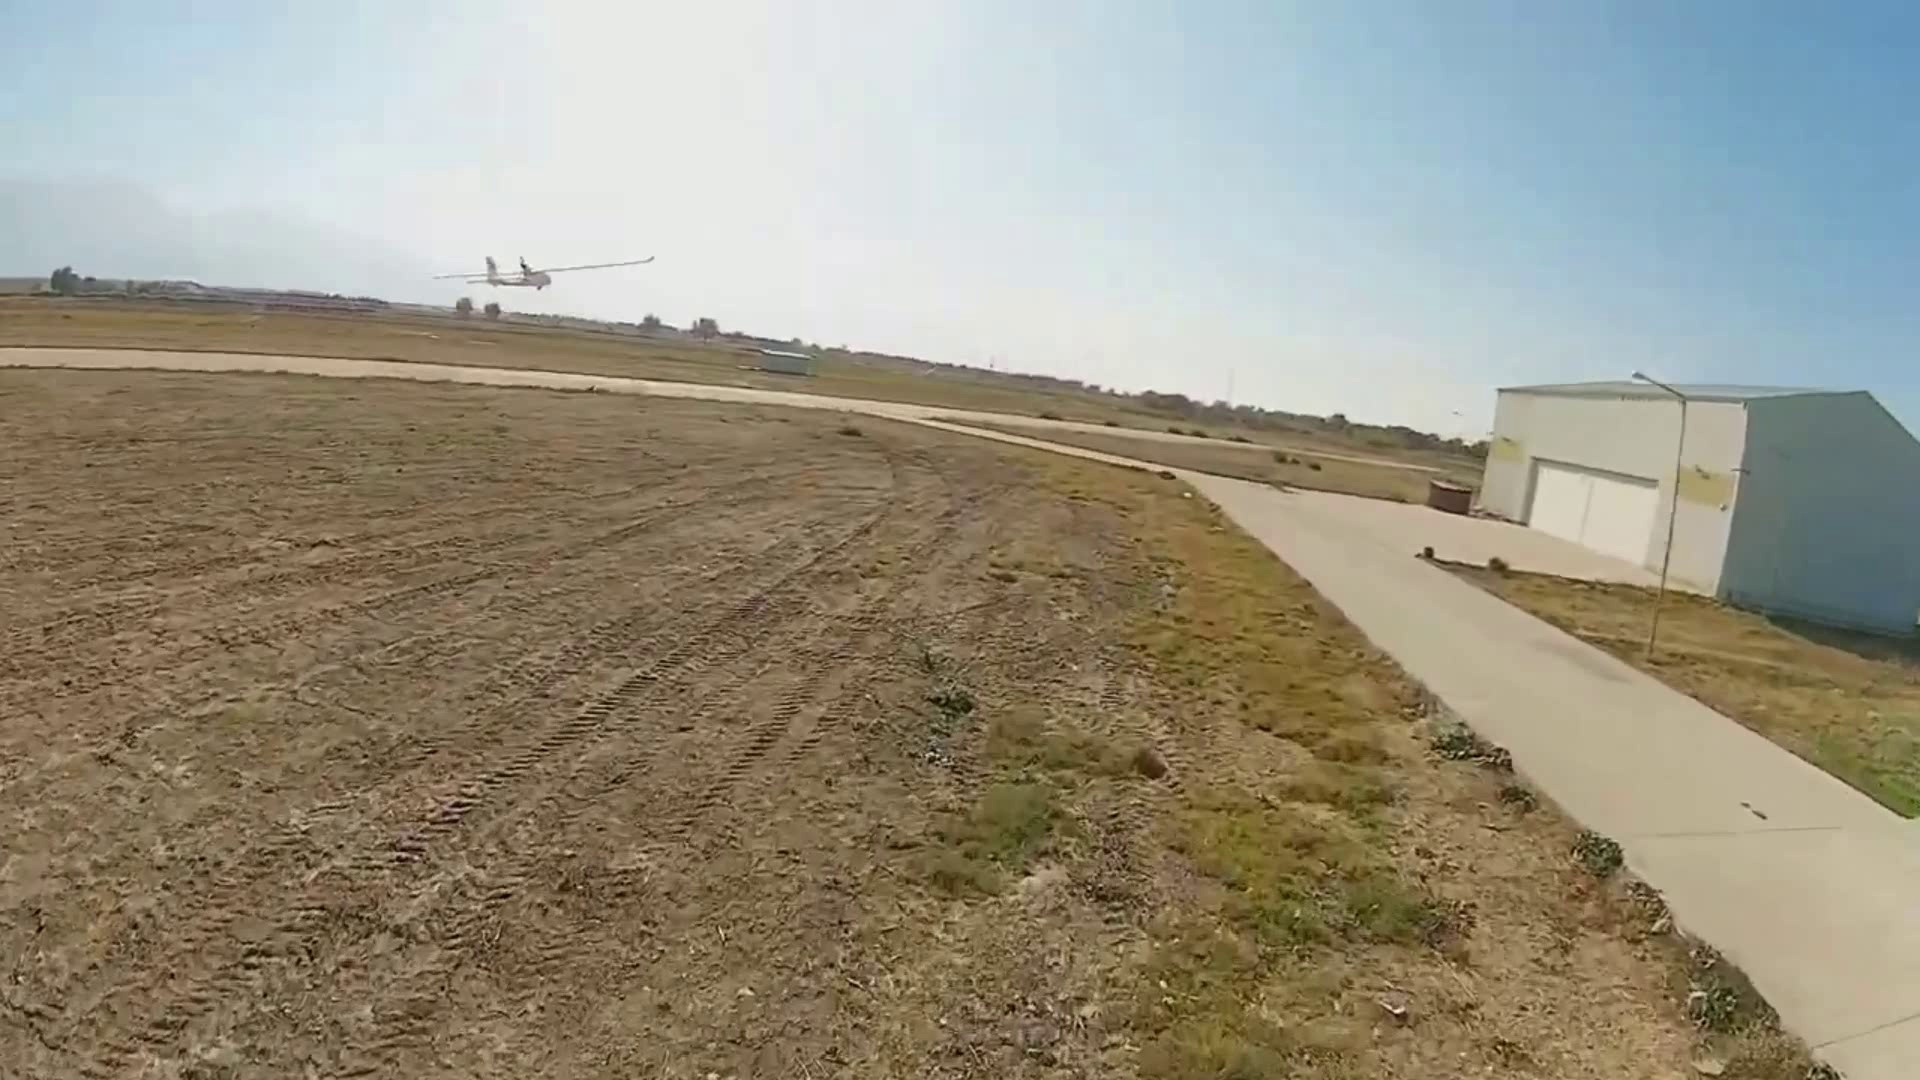airplane: (442, 244, 658, 316)
